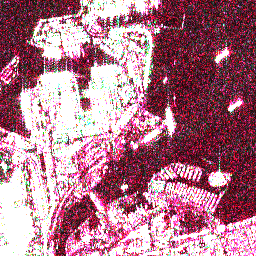ship: (162, 105, 178, 136), (212, 46, 231, 65), (141, 125, 160, 144), (225, 97, 243, 114)
